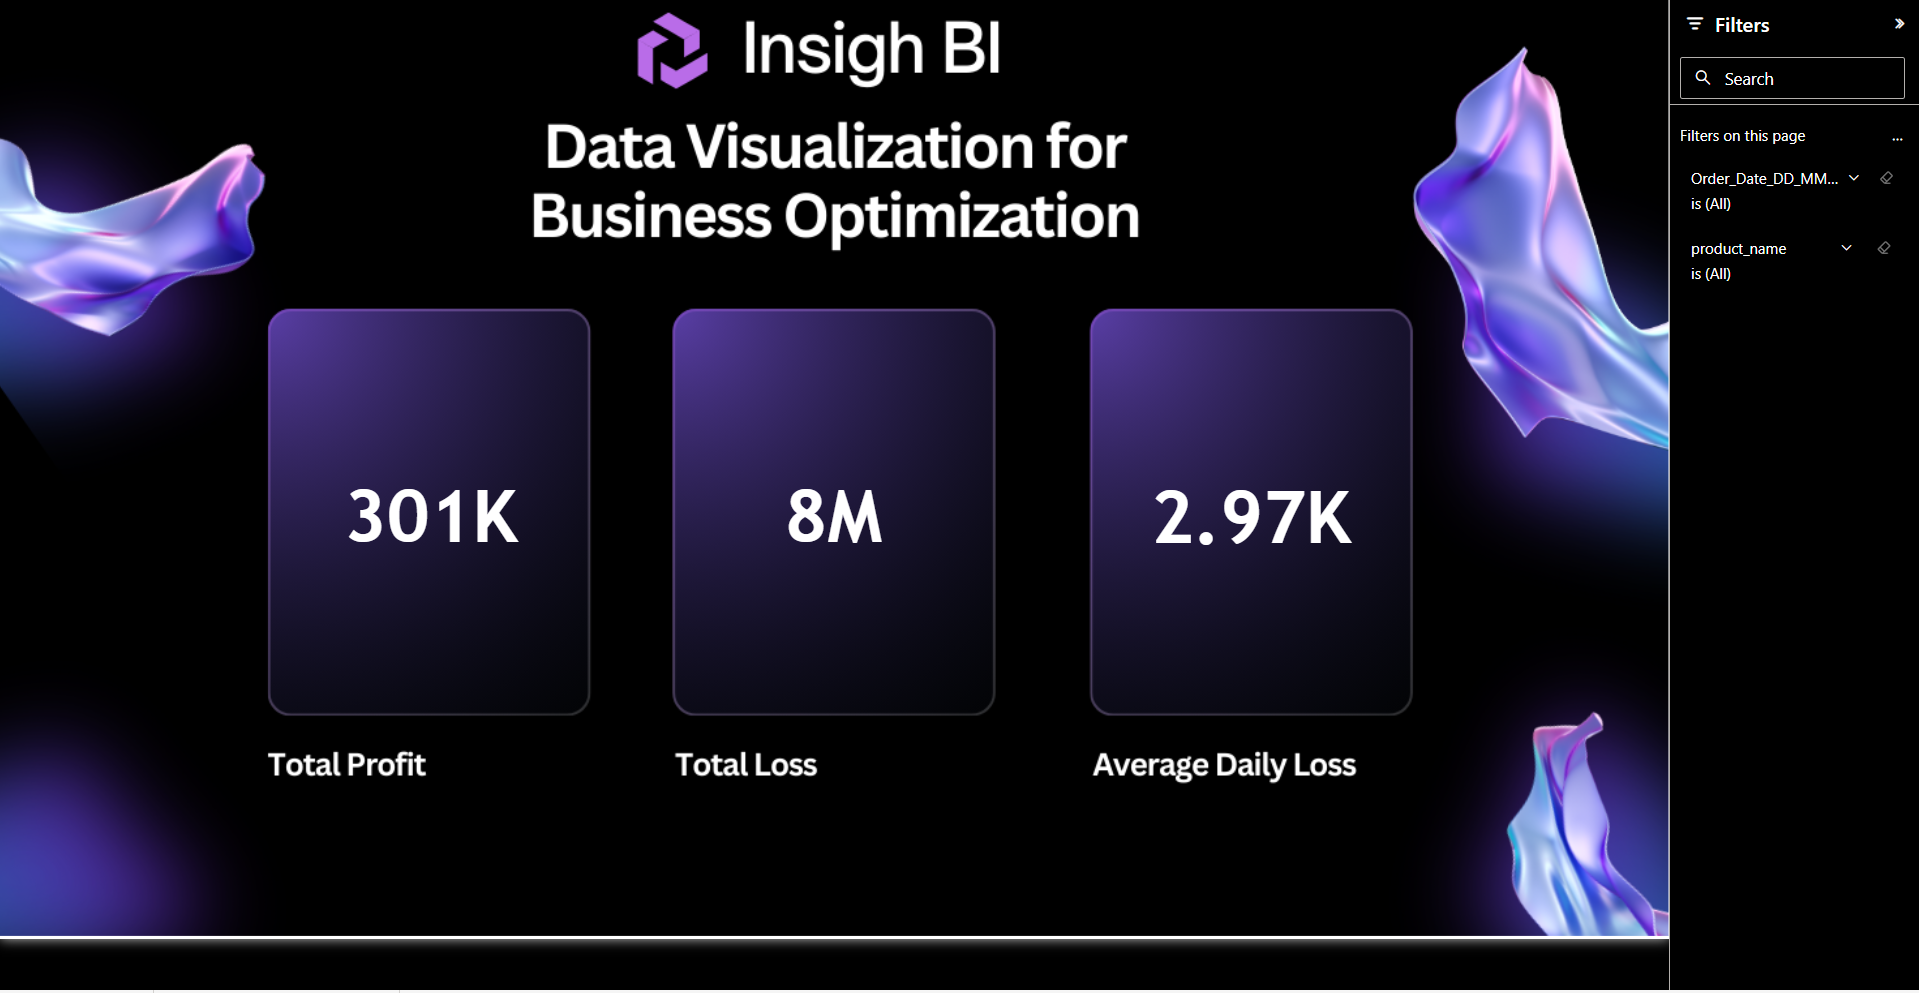

What the dashboard file says about the page in this screenshot:
{"tool":"powerbi","page":{"name":"Page 2","canvas":[1280,720],"ordinal":1},"visuals":[{"type":"card","fields":{"Values":["Measures Table.Total Profit"]},"box":[207.2,234.6,247,314.2],"z":0},{"type":"card","fields":{"Values":["Measures Table.Total Loss"]},"box":[516,234.6,247,314.2],"z":1000},{"type":"card","fields":{"Values":["Measures Table.Average Loss Per Day"]},"box":[835.7,236,247,314.2],"z":2000}]}

Visuals, with their boxes on the page's 1280x720 design canvas (x1, y1, x2, y2). These are canvas units, not pixel positions in the 1919x993 screenshot, which may show the page scaled, cropped or inside an application window:
card - Measures Table.Total Profit: [left=207, top=235, right=454, bottom=549]
card - Measures Table.Total Loss: [left=516, top=235, right=763, bottom=549]
card - Measures Table.Average Loss Per Day: [left=836, top=236, right=1083, bottom=550]
